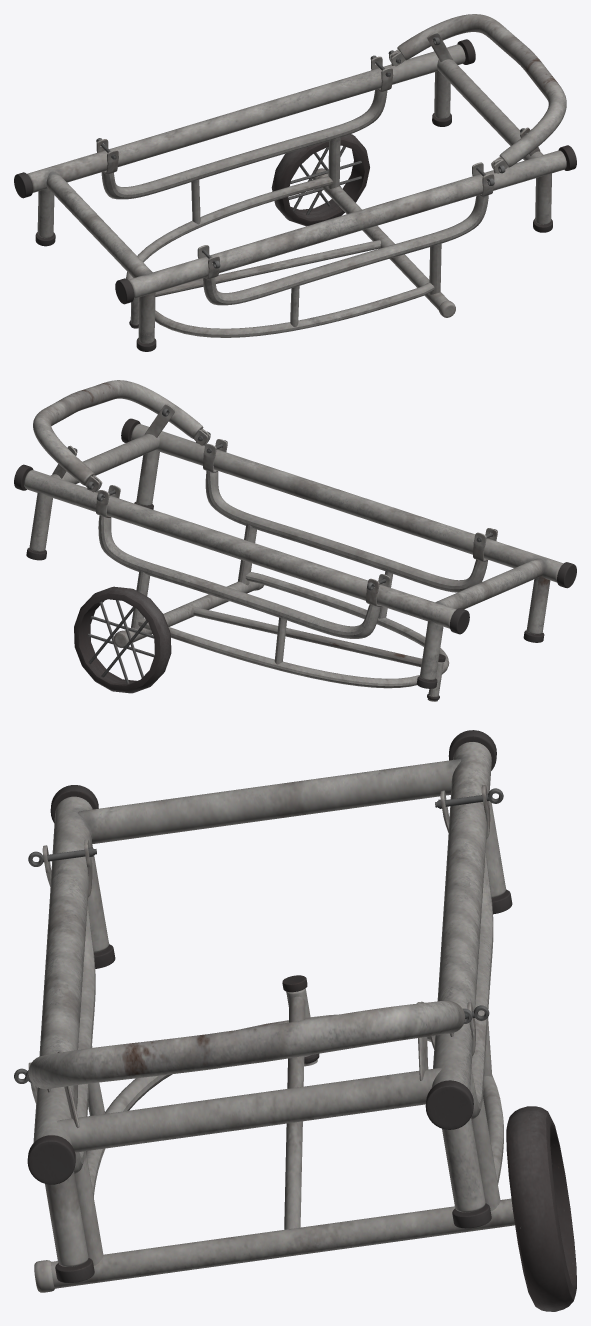
Rendered from Gurney_MeshVariant2.fbx.
The picture shows the model from 3 angles, top to bottom: view 1: azimuth 30°, elevation 25°; view 2: azimuth 150°, elevation 25°; view 3: azimuth 270°, elevation 25°; orthographic projection. The views are drawn at different scales.
Parts seen in each view (by area): view 1: Gurney_Variation2; view 2: Gurney_Variation2; view 3: Gurney_Variation2.
Boxes of the visible parts, left/top/right/bottom form: Gurney_Variation2: left=14, top=14, right=576, bottom=351; Gurney_Variation2: left=14, top=380, right=576, bottom=701; Gurney_Variation2: left=14, top=730, right=576, bottom=1311.
Size of the model in its own units: 233 by 103 by 129.
